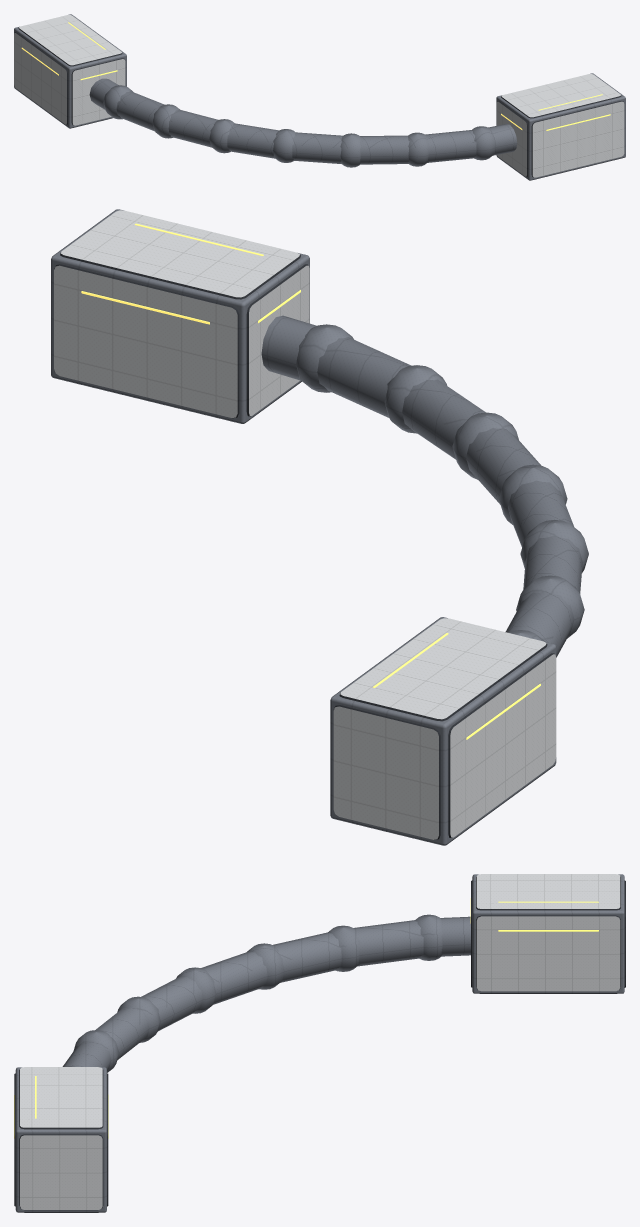
Rendered from R4C_ROD_ARC_LONG.glb.
3 renders of one model, top to bottom at view 1: azimuth 30°, elevation 25°; view 2: azimuth 150°, elevation 25°; view 3: azimuth 270°, elevation 25°, orthographic. The views are drawn at different scales.
Visible parts, largest first — view 1: R4C_ROD_ARC_LONG; view 2: R4C_ROD_ARC_LONG; view 3: R4C_ROD_ARC_LONG.
Part boxes in pixels (x1=…): R4C_ROD_ARC_LONG: x1=14, y1=14, x2=625, y2=180; R4C_ROD_ARC_LONG: x1=51, y1=209, x2=588, y2=845; R4C_ROD_ARC_LONG: x1=14, y1=874, x2=625, y2=1212.
Bounding box in the file's own units: 1.47 × 0.2284 × 1.47.
Materials: 4 (3 with a texture image).
